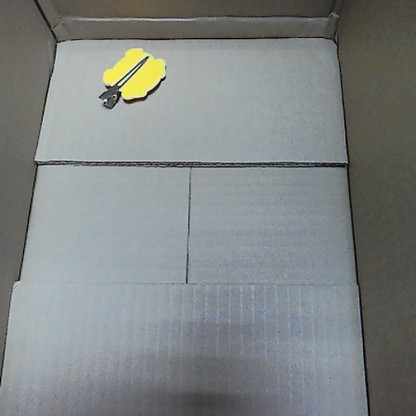dogclip: (97, 44, 166, 109)
